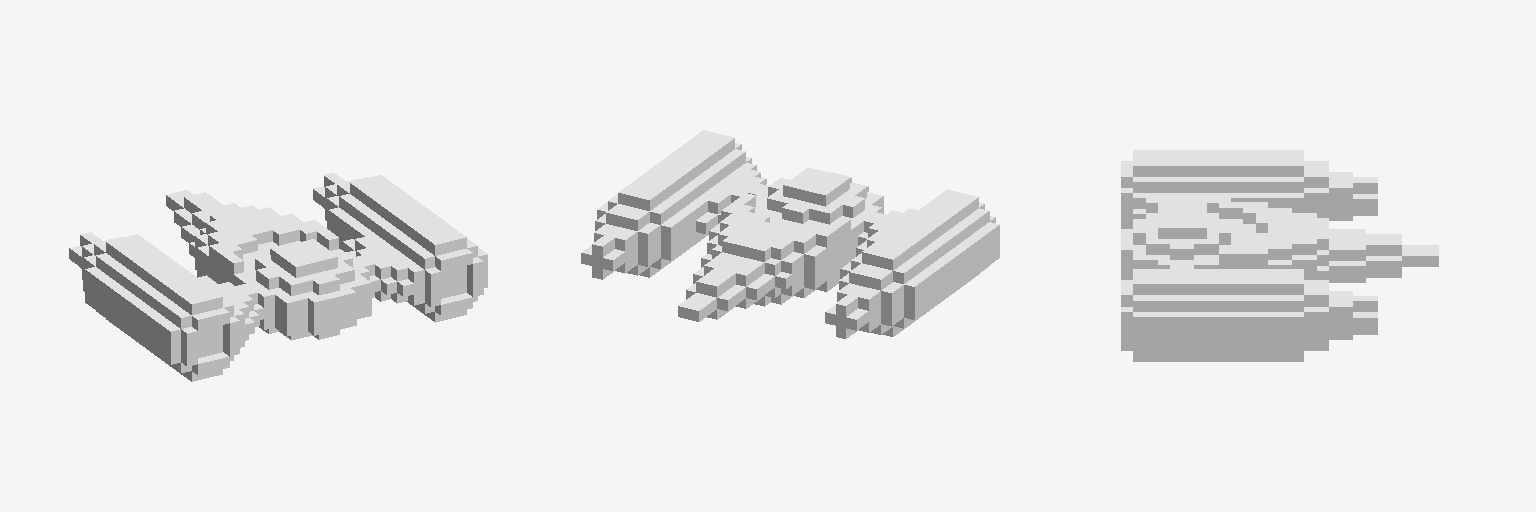
File: EnemyLarge.obj
3 views of the same model, side by side, from view 1: azimuth 30°, elevation 25°; view 2: azimuth 150°, elevation 25°; view 3: azimuth 270°, elevation 25° (orthographic).
Parts seen in each view (by area): view 1: object 1; view 2: object 1; view 3: object 1.
Part boxes in pixels (bbox=[...]): object 1: bbox=[69, 173, 487, 381]; object 1: bbox=[581, 130, 999, 338]; object 1: bbox=[1121, 150, 1438, 361].
Bounding box in the file's own units: 3 × 0.7 × 2.6.